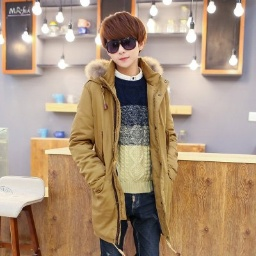face: (99, 11, 148, 69)
